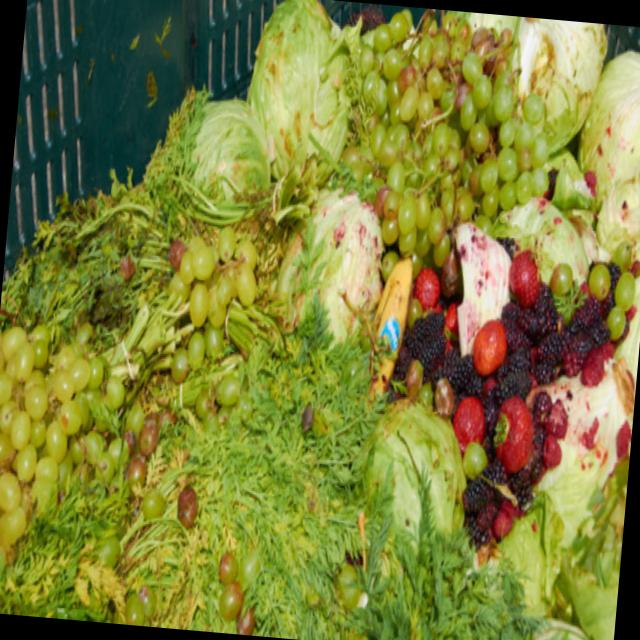paper: (343, 4, 557, 250), (319, 474, 568, 640), (0, 307, 102, 568), (243, 0, 372, 195), (164, 73, 287, 207), (591, 42, 640, 189), (490, 396, 540, 476), (472, 314, 512, 382), (408, 306, 448, 369), (509, 247, 546, 309), (452, 392, 483, 456), (586, 260, 616, 308), (419, 263, 446, 306), (554, 254, 576, 300)
